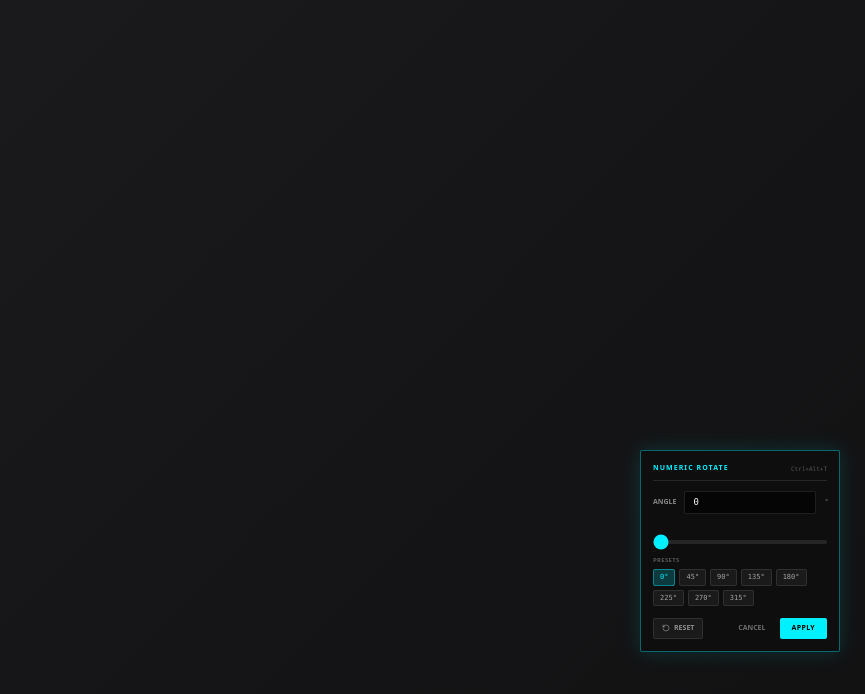
it: NumericRotatePopover — validation › should clear error on input change
Replace the text in the field named "Rotation angle in degrees" with "abc" at (750, 502), box [684, 490, 816, 514]
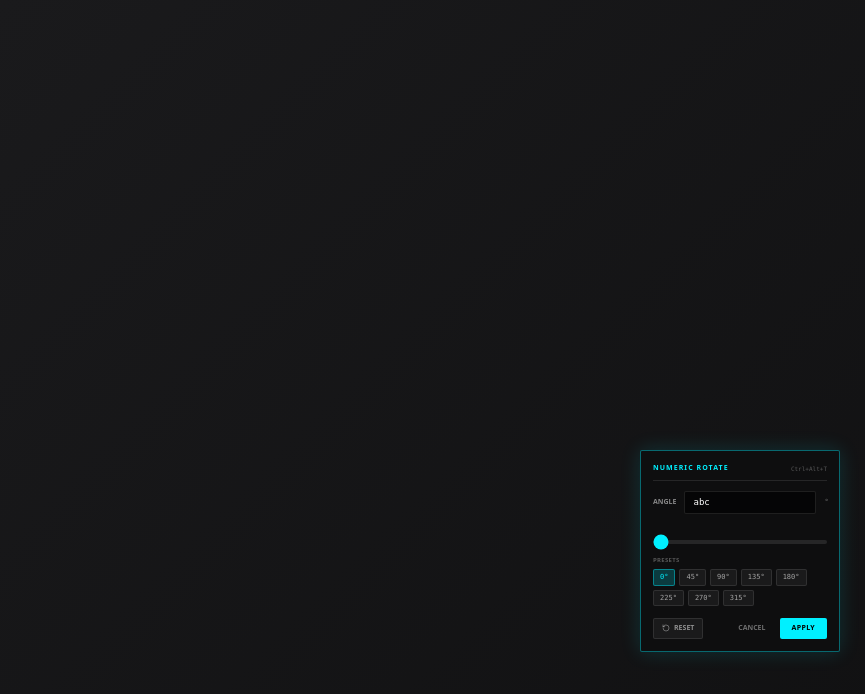
Click the button "Apply".
click(803, 628)  # box [780, 618, 827, 638]
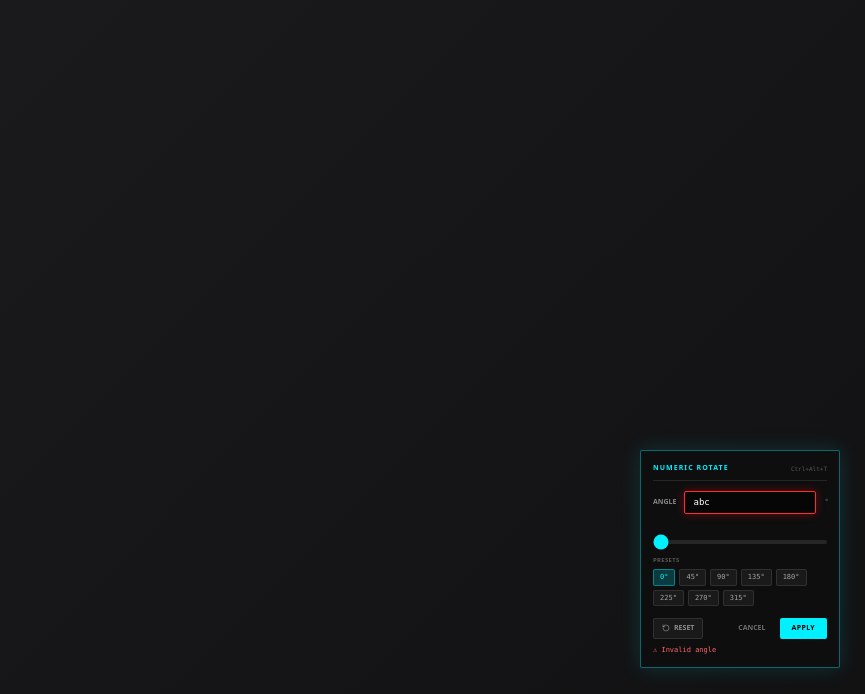
Now the text "⚠ Invalid angle" is shown, box [653, 646, 716, 654]
Replace the text in the field named "Rotation angle in degrees" with "45" at (750, 502), box [684, 490, 816, 514]
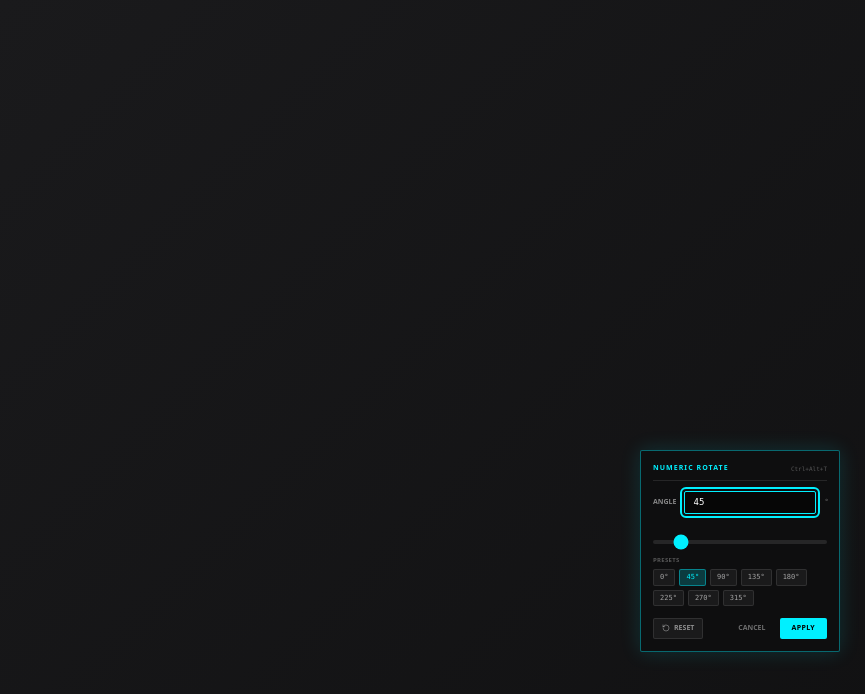
Now the text "Invalid" is gone
